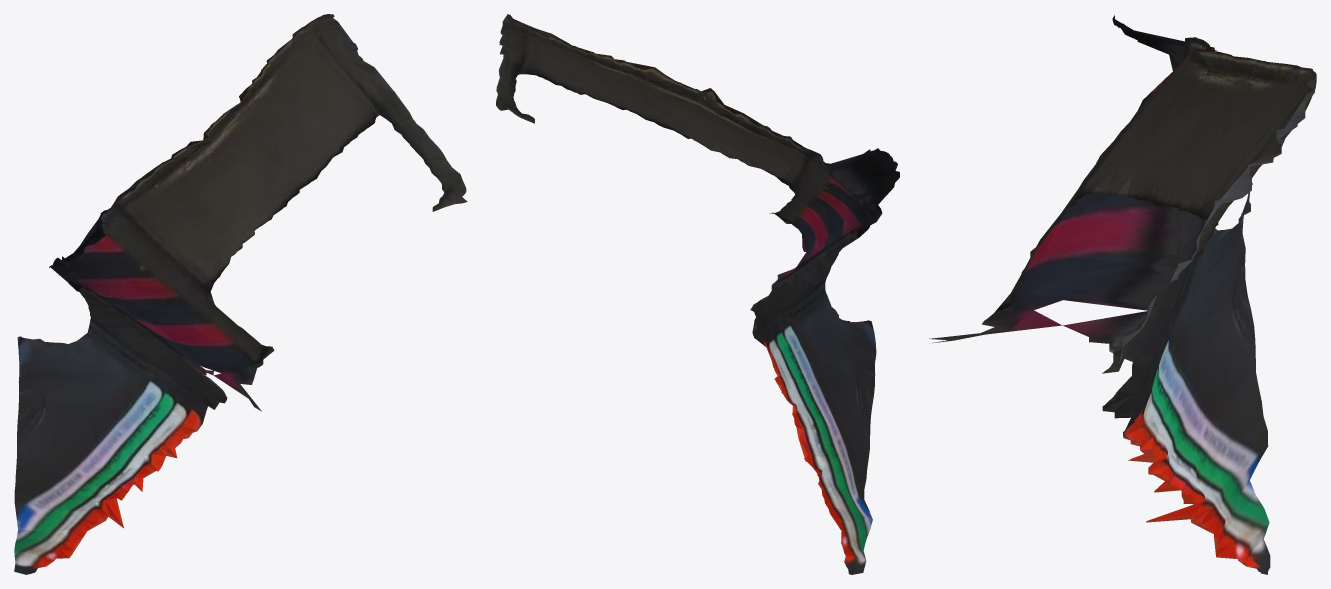
Rendered from observed-surface.glb.
3 views of the same model, side by side, from view 1: azimuth 30°, elevation 25°; view 2: azimuth 150°, elevation 25°; view 3: azimuth 270°, elevation 25° (orthographic). The views are drawn at different scales.
Parts seen in each view (by area): view 1: geometry_0; view 2: geometry_0; view 3: geometry_0.
Part boxes in pixels (x1,y1,x2,y2): geometry_0: [14, 14, 467, 574]; geometry_0: [496, 14, 899, 574]; geometry_0: [929, 15, 1316, 574].
Size of the model in its own units: 0.4662 by 0.5182 by 0.2485.
1 material, 1 textured.
